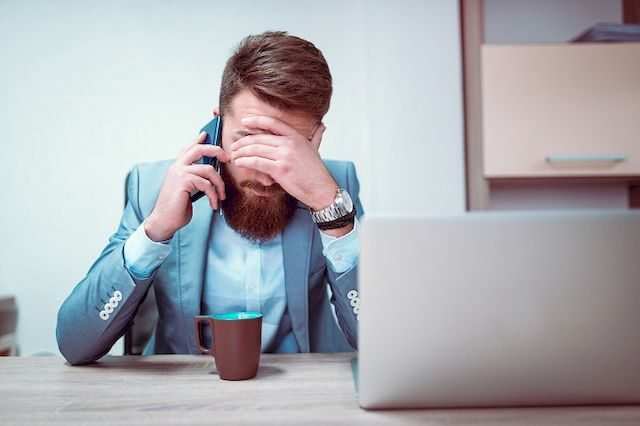phone: (189, 119, 220, 198)
talk: (168, 108, 313, 223)
